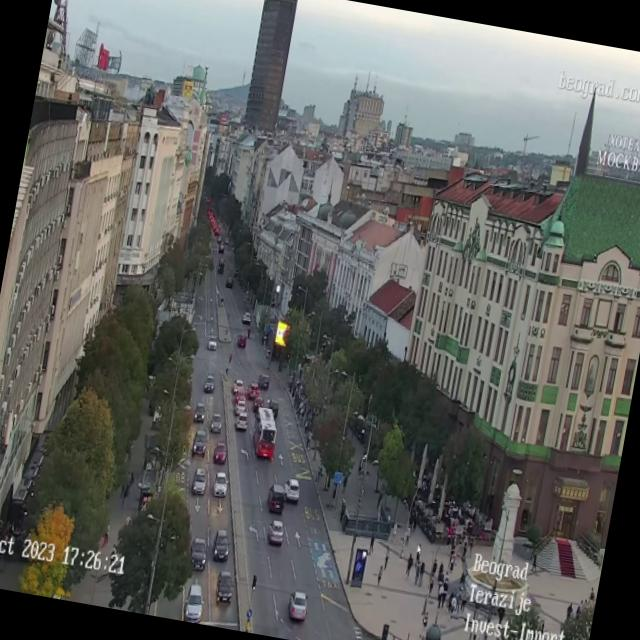bus: (248, 404, 280, 462)
car: (182, 582, 207, 623), (186, 538, 212, 572), (286, 590, 310, 622), (213, 573, 236, 606), (265, 518, 286, 546), (268, 480, 286, 510), (214, 526, 232, 556), (212, 467, 228, 498), (191, 432, 209, 459), (190, 468, 208, 492), (214, 438, 228, 468), (283, 480, 300, 502), (208, 411, 224, 432), (193, 402, 206, 424), (235, 332, 248, 350), (236, 412, 247, 432), (260, 370, 272, 388), (230, 380, 245, 394), (206, 374, 217, 392), (252, 399, 266, 413), (234, 393, 247, 408), (248, 382, 258, 399), (235, 401, 245, 416), (208, 336, 215, 348)
